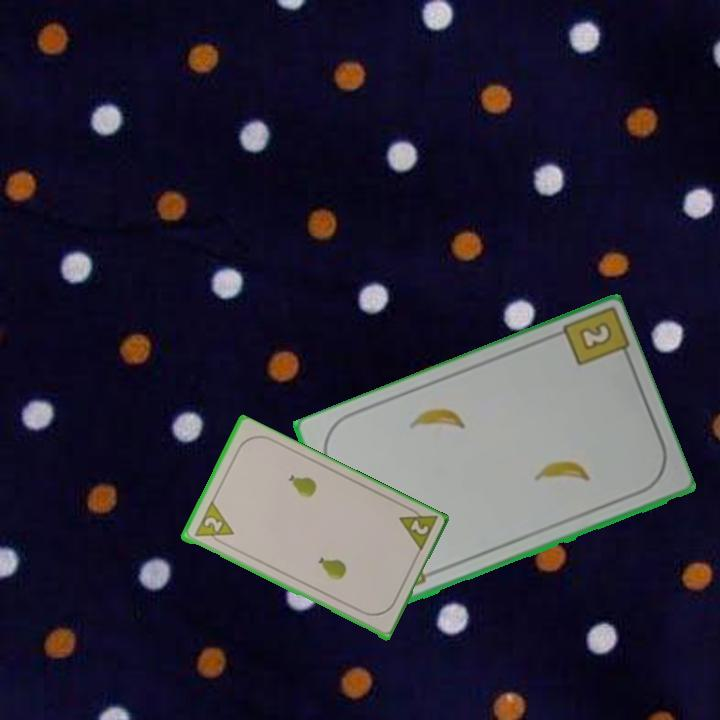2b: (575, 318, 615, 354)
2p: (394, 502, 440, 556), (190, 499, 236, 548)
